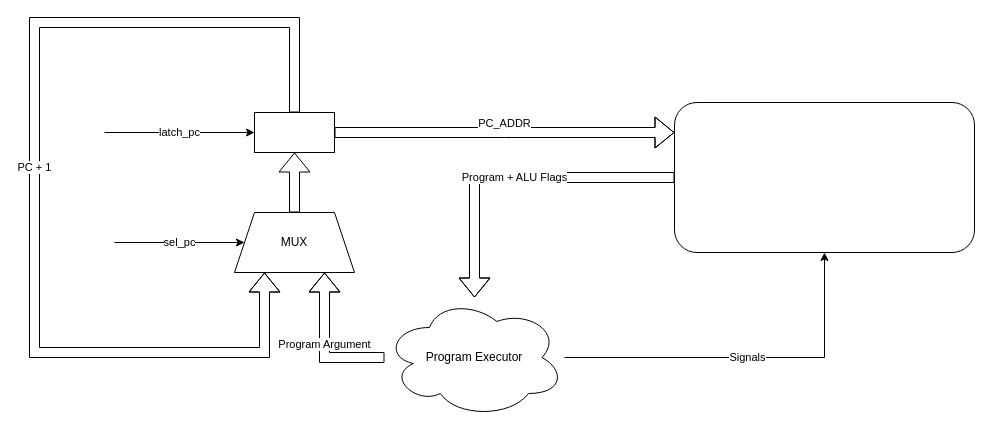
This 992x435 diagram has some shape labels left out. The shapes that lost their labels are listed below. From the top down, each one's centre as x and y in pixels, then its label:
At [294,132]: "Program Counter".
At [824,177]: "Data Path".
